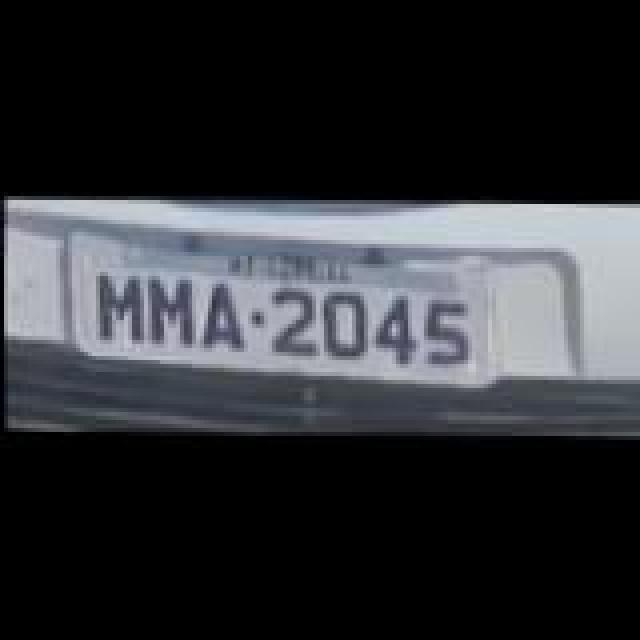2: (268, 288, 324, 356)
4: (372, 298, 420, 366)
5: (424, 302, 480, 370)
A: (202, 282, 254, 350)
D: (320, 292, 376, 360)
M: (94, 274, 146, 342), (146, 280, 198, 348)
